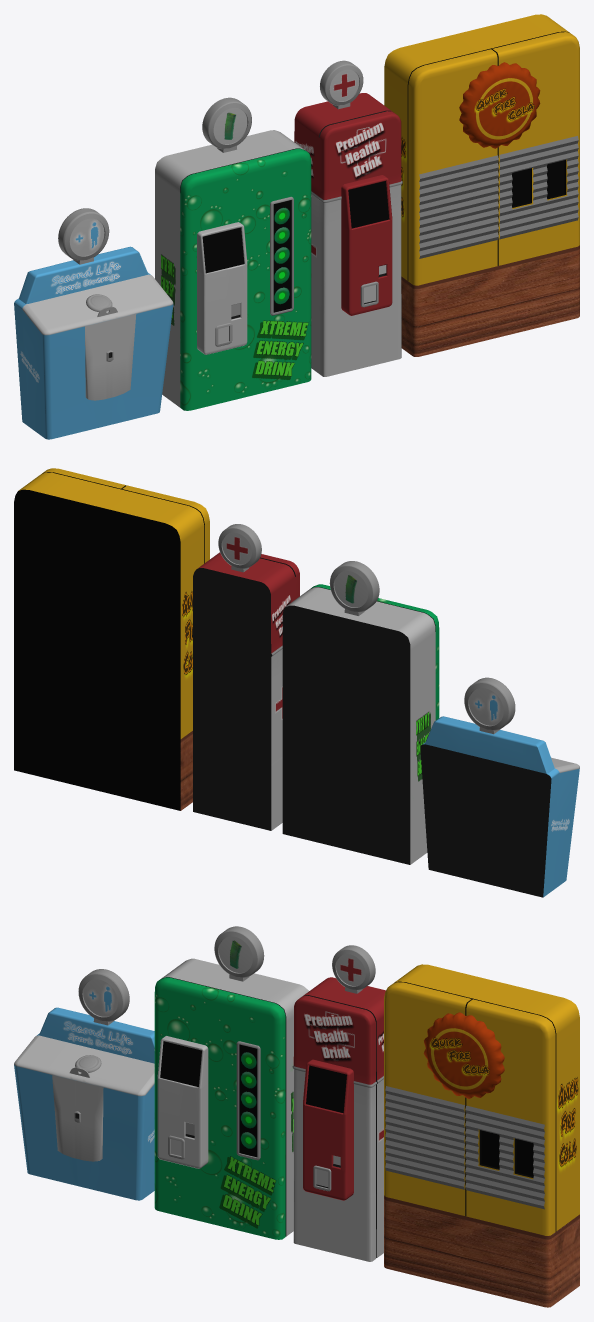
The model's file is perk_machines.glb.
3 renders of one model, top to bottom at view 1: azimuth 30°, elevation 25°; view 2: azimuth 150°, elevation 25°; view 3: azimuth 330°, elevation 25°, orthographic.
Parts seen in each view (by area): view 1: QuickFireMachine, FastReloadMachine, CoinSlot1, HealthMachine; view 2: QuickFireMachine, FastReloadMachine, HealthMachine, CoinSlot1; view 3: QuickFireMachine, FastReloadMachine, HealthMachine, CoinSlot1.
Part boxes in pixels (x1,y1,x2,y2): QuickFireMachine: (384,14,579,356); FastReloadMachine: (155,97,311,410); CoinSlot1: (14,208,173,439); HealthMachine: (294,60,402,376); QuickFireMachine: (14,468,209,810); FastReloadMachine: (282,561,439,864); HealthMachine: (192,524,299,830); CoinSlot1: (420,677,579,897); QuickFireMachine: (384,964,579,1307); FastReloadMachine: (154,926,308,1239); HealthMachine: (292,945,385,1261); CoinSlot1: (14,969,154,1200).
Size of the model in its own units: 1912 by 990 by 239.
4 materials, 4 textured.
